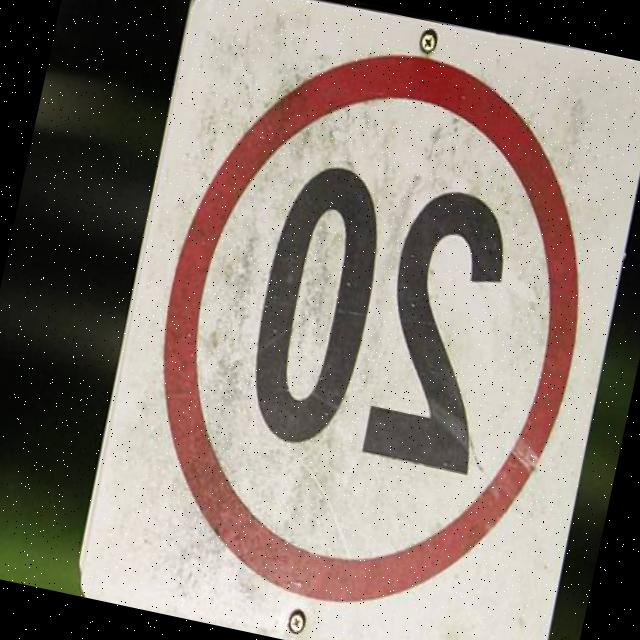speed_limit_20: (112, 7, 635, 640)
